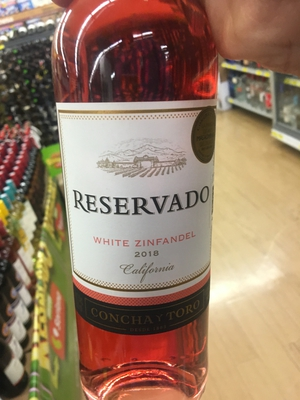reservado white zinfandel: (55, 6, 222, 400)
